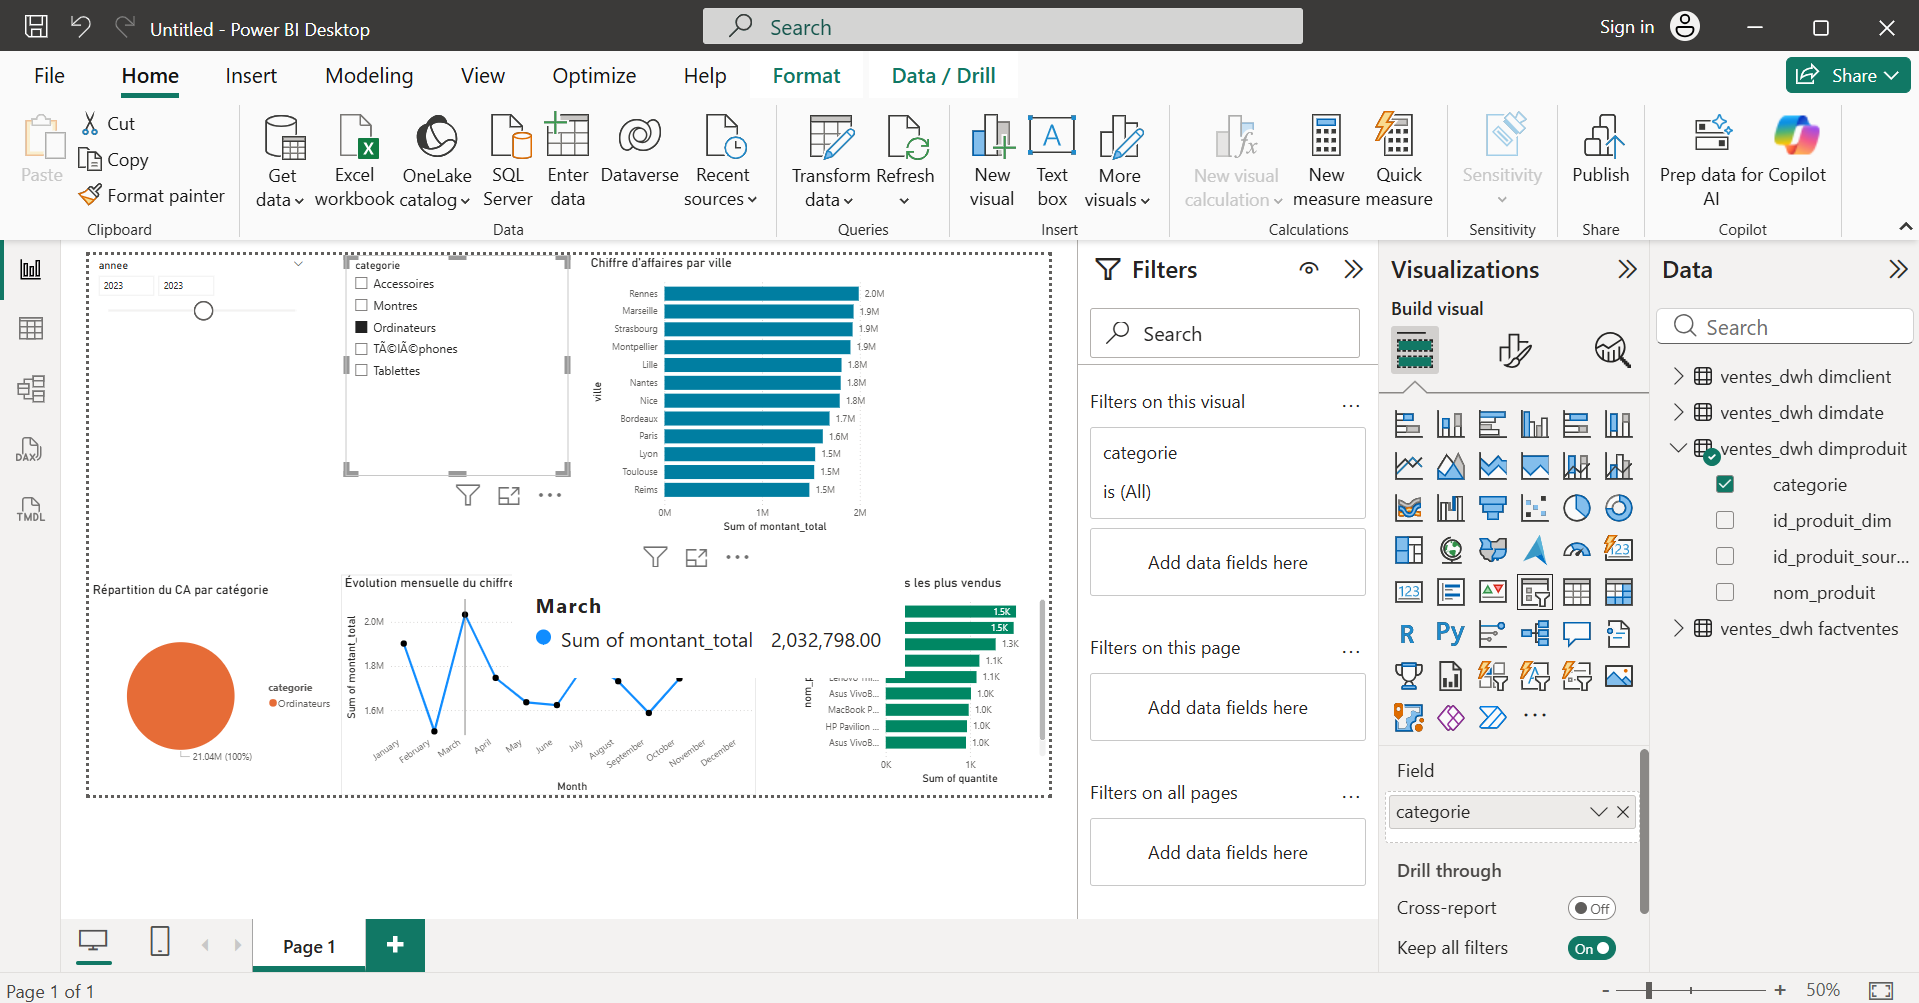

This screenshot's page, from the dashboard's own definition file:
{"tool":"powerbi","page":{"name":"Page 1","canvas":[1280,720],"ordinal":0},"visuals":[{"type":"barChart","title":"Chiffre d''affaires par ville","fields":{"Category":["ventes_dwh dimclient.ville"],"Y":["Sum(ventes_dwh factventes.montant_total)"]},"box":[316,66,458,342],"z":0},{"type":"pieChart","title":"Répartition du CA par catégorie","fields":{"Category":["ventes_dwh dimproduit.categorie"],"Y":["Sum(ventes_dwh factventes.montant_total)"]},"box":[326,432,336,288],"z":1000},{"type":"lineChart","title":"Évolution mensuelle du chiffre d''affaires","fields":{"Y":["Sum(ventes_dwh factventes.montant_total)"],"Category":["ventes_dwh dimdate.date_complete.Variation.Date Hierarchy.Month"]},"box":[724,432,530,288],"z":2000},{"type":"clusteredBarChart","title":"Top 10 des produits les plus vendus","fields":{"Category":["ventes_dwh dimproduit.nom_produit"],"Y":["Sum(ventes_dwh factventes.quantite)"]},"box":[800,66,432,342],"z":3000},{"type":"slicer","fields":{"Values":["ventes_dwh dimdate.annee"]},"box":[0,164,256,96],"z":4000},{"type":"slicer","fields":{"Values":["ventes_dwh dimproduit.categorie"]},"box":[0,260,210,172],"z":5000},{"type":"card","fields":{"Values":["ventes_dwh factventes.CA Total"]},"box":[0,0,112,72],"z":6000},{"type":"card","fields":{"Values":["ventes_dwh factventes.Panier Moyen"]},"box":[128,66,112,80],"z":7000},{"type":"card","fields":{"Values":["ventes_dwh factventes.Nombre de Ventes"]},"box":[112,0,154,72],"z":8000},{"type":"card","fields":{"Values":["ventes_dwh factventes.Clients Uniques"]},"box":[0,72,128,74],"z":9000},{"type":"textbox","box":[336,0,652,48],"z":10000}]}

Visuals, with their boxes on the page's 1280x720 design canvas (x1, y1, x2, y2). These are canvas units, not pixel positions in the 1919x1003 screenshot, which may show the page scaled, cropped or inside an application window:
"Chiffre d''affaires par ville" barChart: [316, 66, 774, 408]
"Répartition du CA par catégorie" pieChart: [326, 432, 662, 720]
"Évolution mensuelle du chiffre d''affaires" lineChart: [724, 432, 1254, 720]
"Top 10 des produits les plus vendus" clusteredBarChart: [800, 66, 1232, 408]
slicer - ventes_dwh dimdate.annee: [0, 164, 256, 260]
slicer - ventes_dwh dimproduit.categorie: [0, 260, 210, 432]
card - ventes_dwh factventes.CA Total: [0, 0, 112, 72]
card - ventes_dwh factventes.Panier Moyen: [128, 66, 240, 146]
card - ventes_dwh factventes.Nombre de Ventes: [112, 0, 266, 72]
card - ventes_dwh factventes.Clients Uniques: [0, 72, 128, 146]
textbox: [336, 0, 988, 48]
